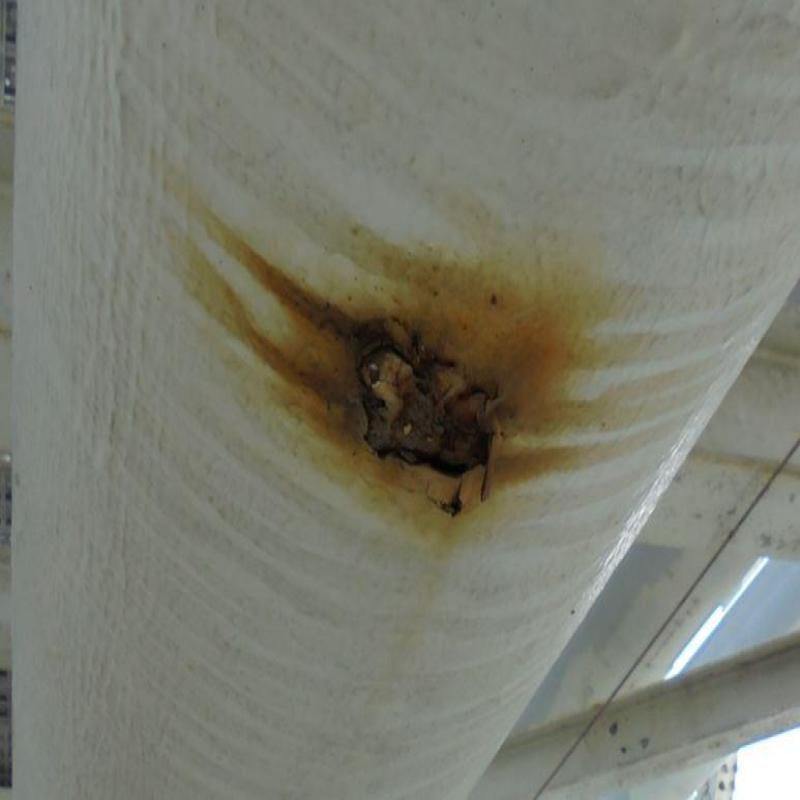Fracture: (360, 334, 422, 366)
corrosion: (337, 316, 507, 505)
